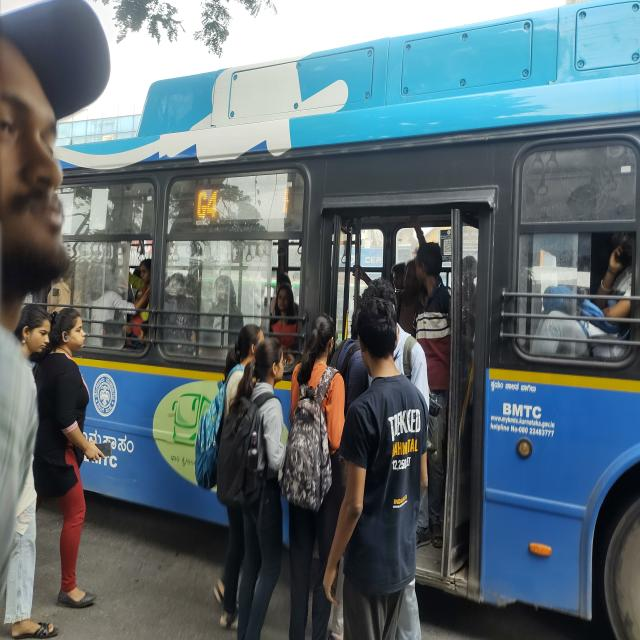bus: (51, 0, 640, 602)
display: (195, 179, 294, 227)
dnumber: (198, 189, 218, 221)
